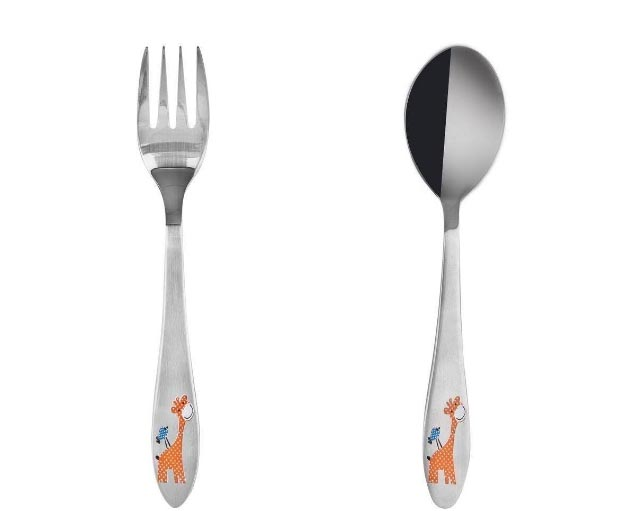Lyzka: (405, 44, 511, 197)
Widelec: (133, 40, 213, 183)
